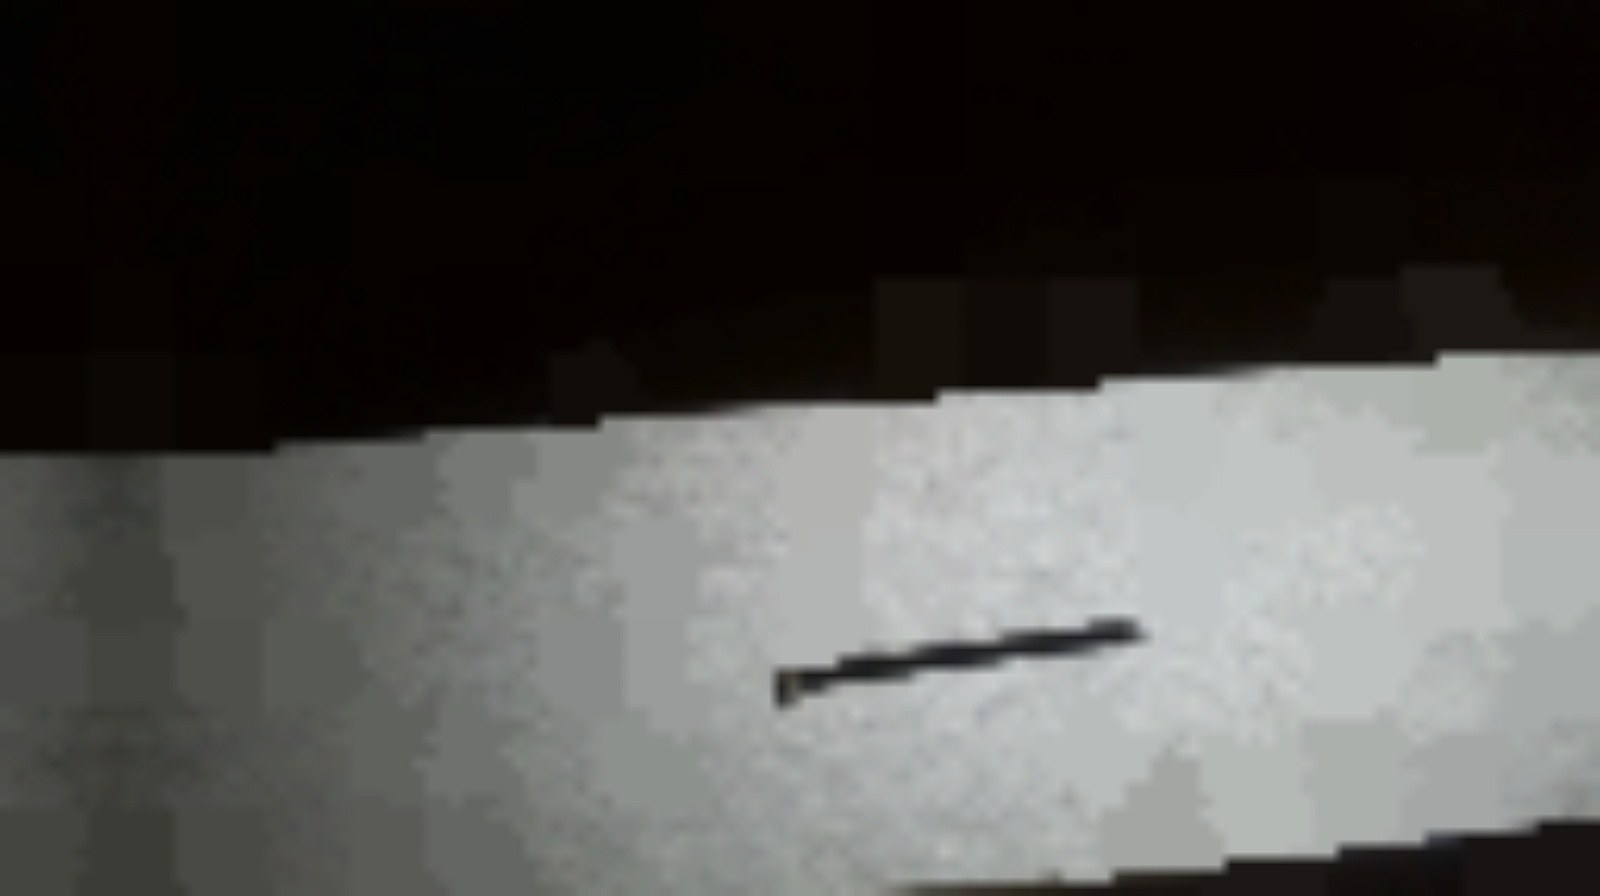S002: (755, 600, 1173, 724)
